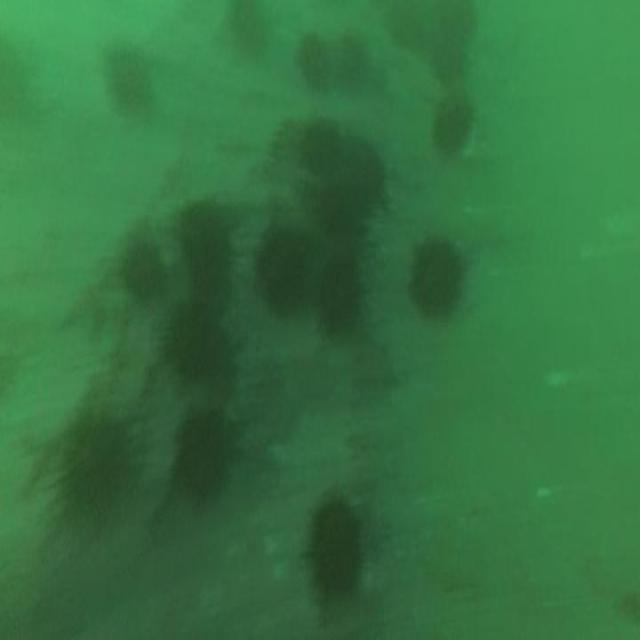echinus: (59, 427, 125, 528), (177, 207, 231, 303), (310, 501, 364, 589), (179, 416, 233, 498), (171, 305, 225, 382), (257, 226, 302, 313), (412, 237, 462, 315), (309, 172, 367, 239), (319, 258, 357, 342), (110, 52, 152, 112), (122, 245, 164, 303), (334, 30, 368, 93), (228, 1, 270, 51), (296, 30, 331, 89), (435, 98, 470, 155), (353, 138, 384, 202), (427, 35, 464, 82), (304, 122, 336, 169)
starfish: (352, 338, 396, 392)
